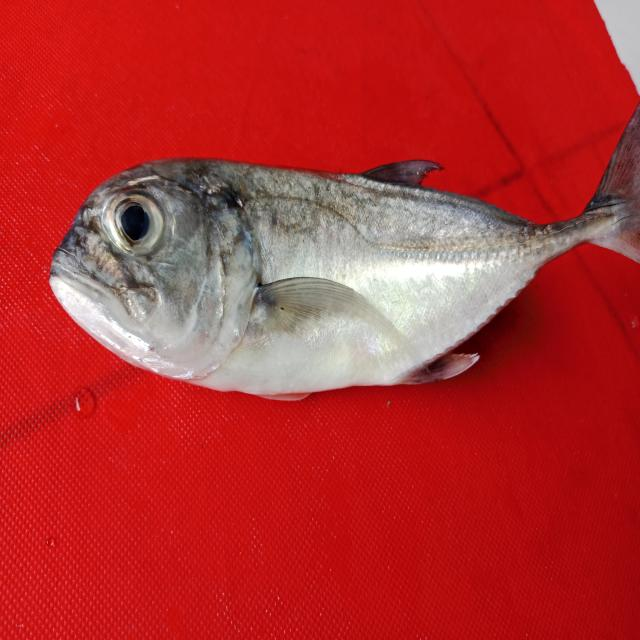ikan: (48, 100, 639, 400)
